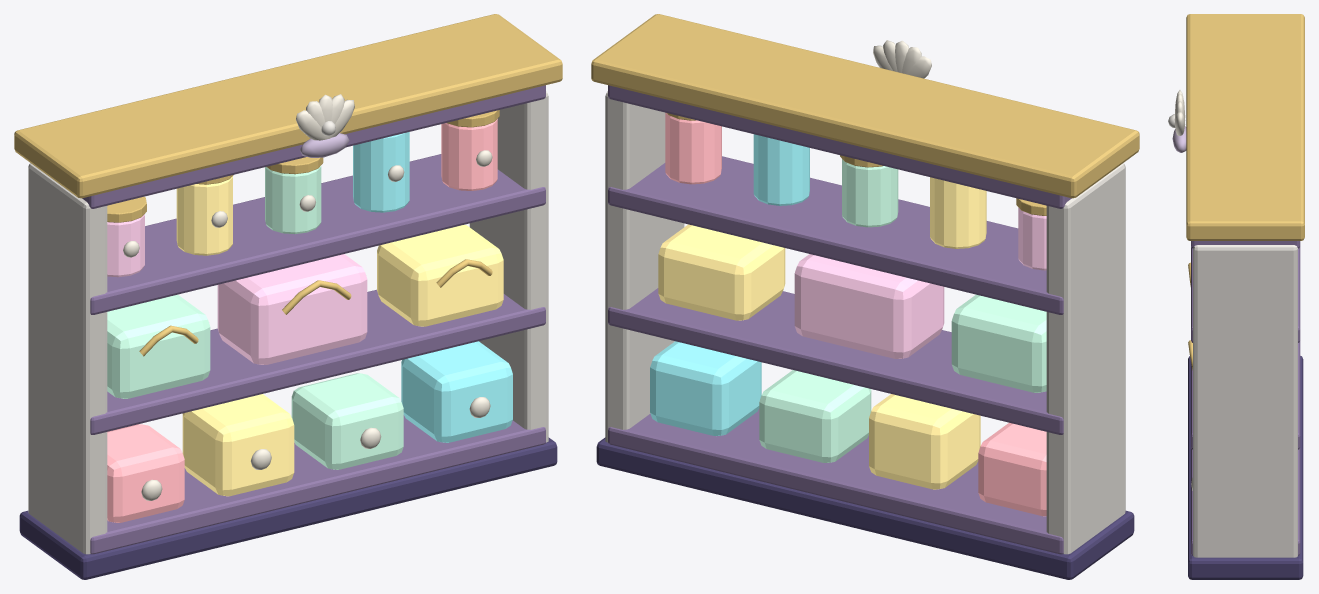
The model's file is pearl_provisions_hutch.glb.
The picture shows the model from 3 angles, left to right: view 1: azimuth 30°, elevation 25°; view 2: azimuth 150°, elevation 25°; view 3: azimuth 270°, elevation 25°; orthographic projection. The views are drawn at different scales.
Visible parts, largest first — view 1: pearl_provisions_hutch.001; view 2: pearl_provisions_hutch.001; view 3: pearl_provisions_hutch.001.
Boxes of the visible parts, box(x1,y1,x2,y2) form: pearl_provisions_hutch.001: box(14, 14, 562, 579); pearl_provisions_hutch.001: box(591, 14, 1139, 579); pearl_provisions_hutch.001: box(1168, 14, 1304, 579).
Bounding box in the file's own units: 11 × 9.39 × 3.02.
